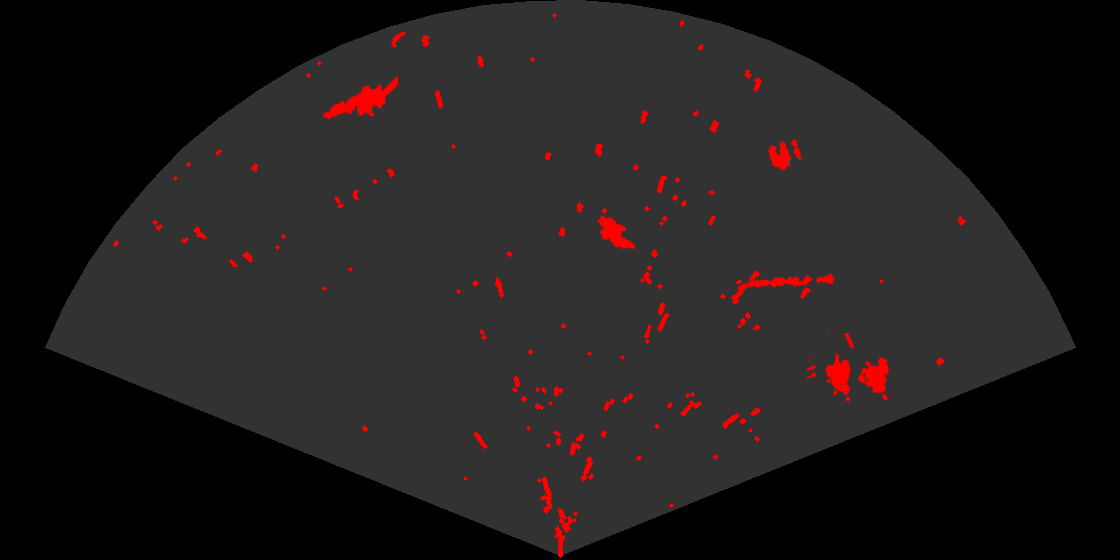AUV: (596, 214, 637, 251)
ball: (767, 138, 803, 172)
cage: (807, 333, 891, 403)
chain: (736, 272, 836, 292)
frogman: (321, 74, 398, 121)
